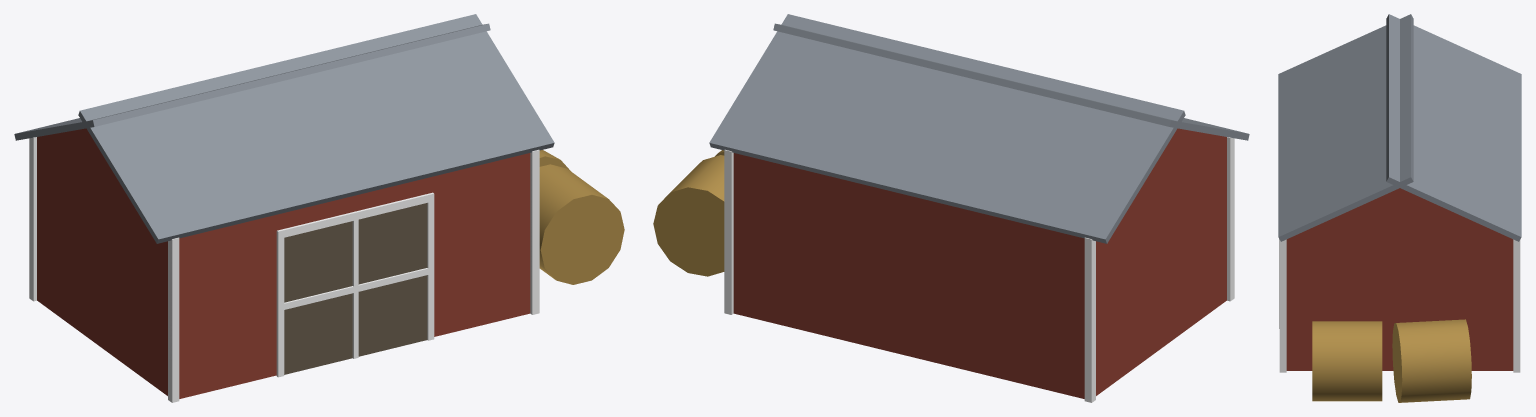
The model's file is scatter-single1.fbx.
3 views of the same model, side by side, from view 1: azimuth 30°, elevation 25°; view 2: azimuth 150°, elevation 25°; view 3: azimuth 270°, elevation 25° (orthographic). The views are drawn at different scales.
Visible parts, largest first — view 1: a1003/0/scatter-single1; view 2: a1003/0/scatter-single1; view 3: a1003/0/scatter-single1.
Part boxes in pixels (bbox=[...]): a1003/0/scatter-single1: bbox=[14, 14, 624, 402]; a1003/0/scatter-single1: bbox=[653, 14, 1249, 402]; a1003/0/scatter-single1: bbox=[1278, 14, 1521, 402].
Bounding box in the file's own units: 8.17 × 3.8 × 4.16.
